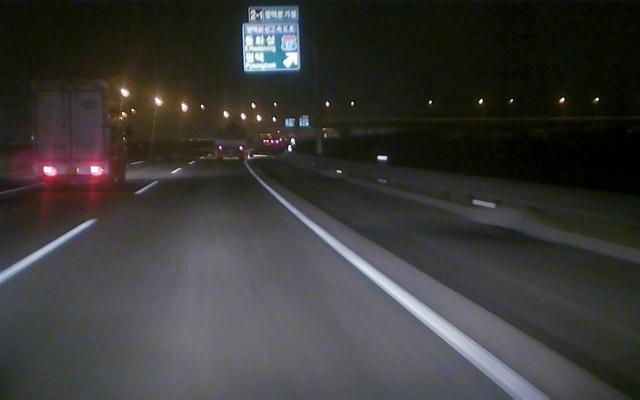lane: (263, 186, 552, 399), (0, 180, 160, 283)
